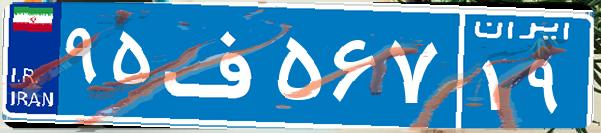1: (475, 38, 525, 113)
5: (273, 28, 330, 110), (110, 28, 158, 105)
6: (330, 28, 385, 110)
7: (385, 28, 445, 110)
9: (57, 26, 110, 107), (525, 38, 570, 115)
ف: (158, 15, 273, 115)
